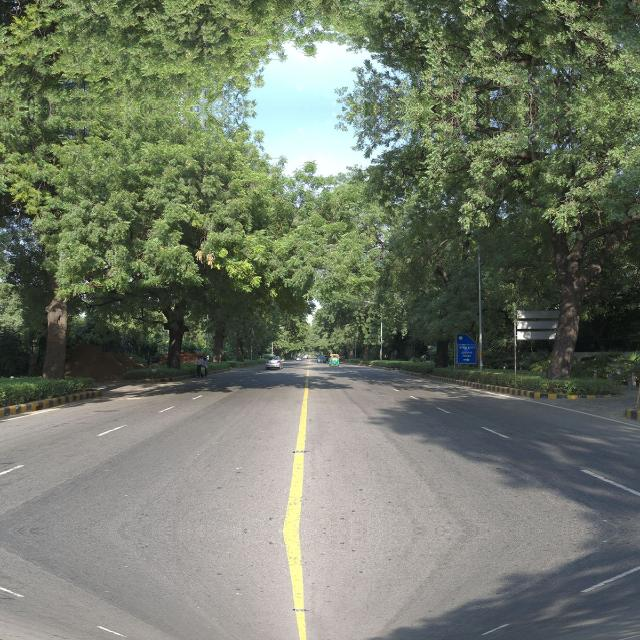obstacle: (508, 169, 626, 411), (20, 236, 90, 407), (507, 0, 626, 47)
